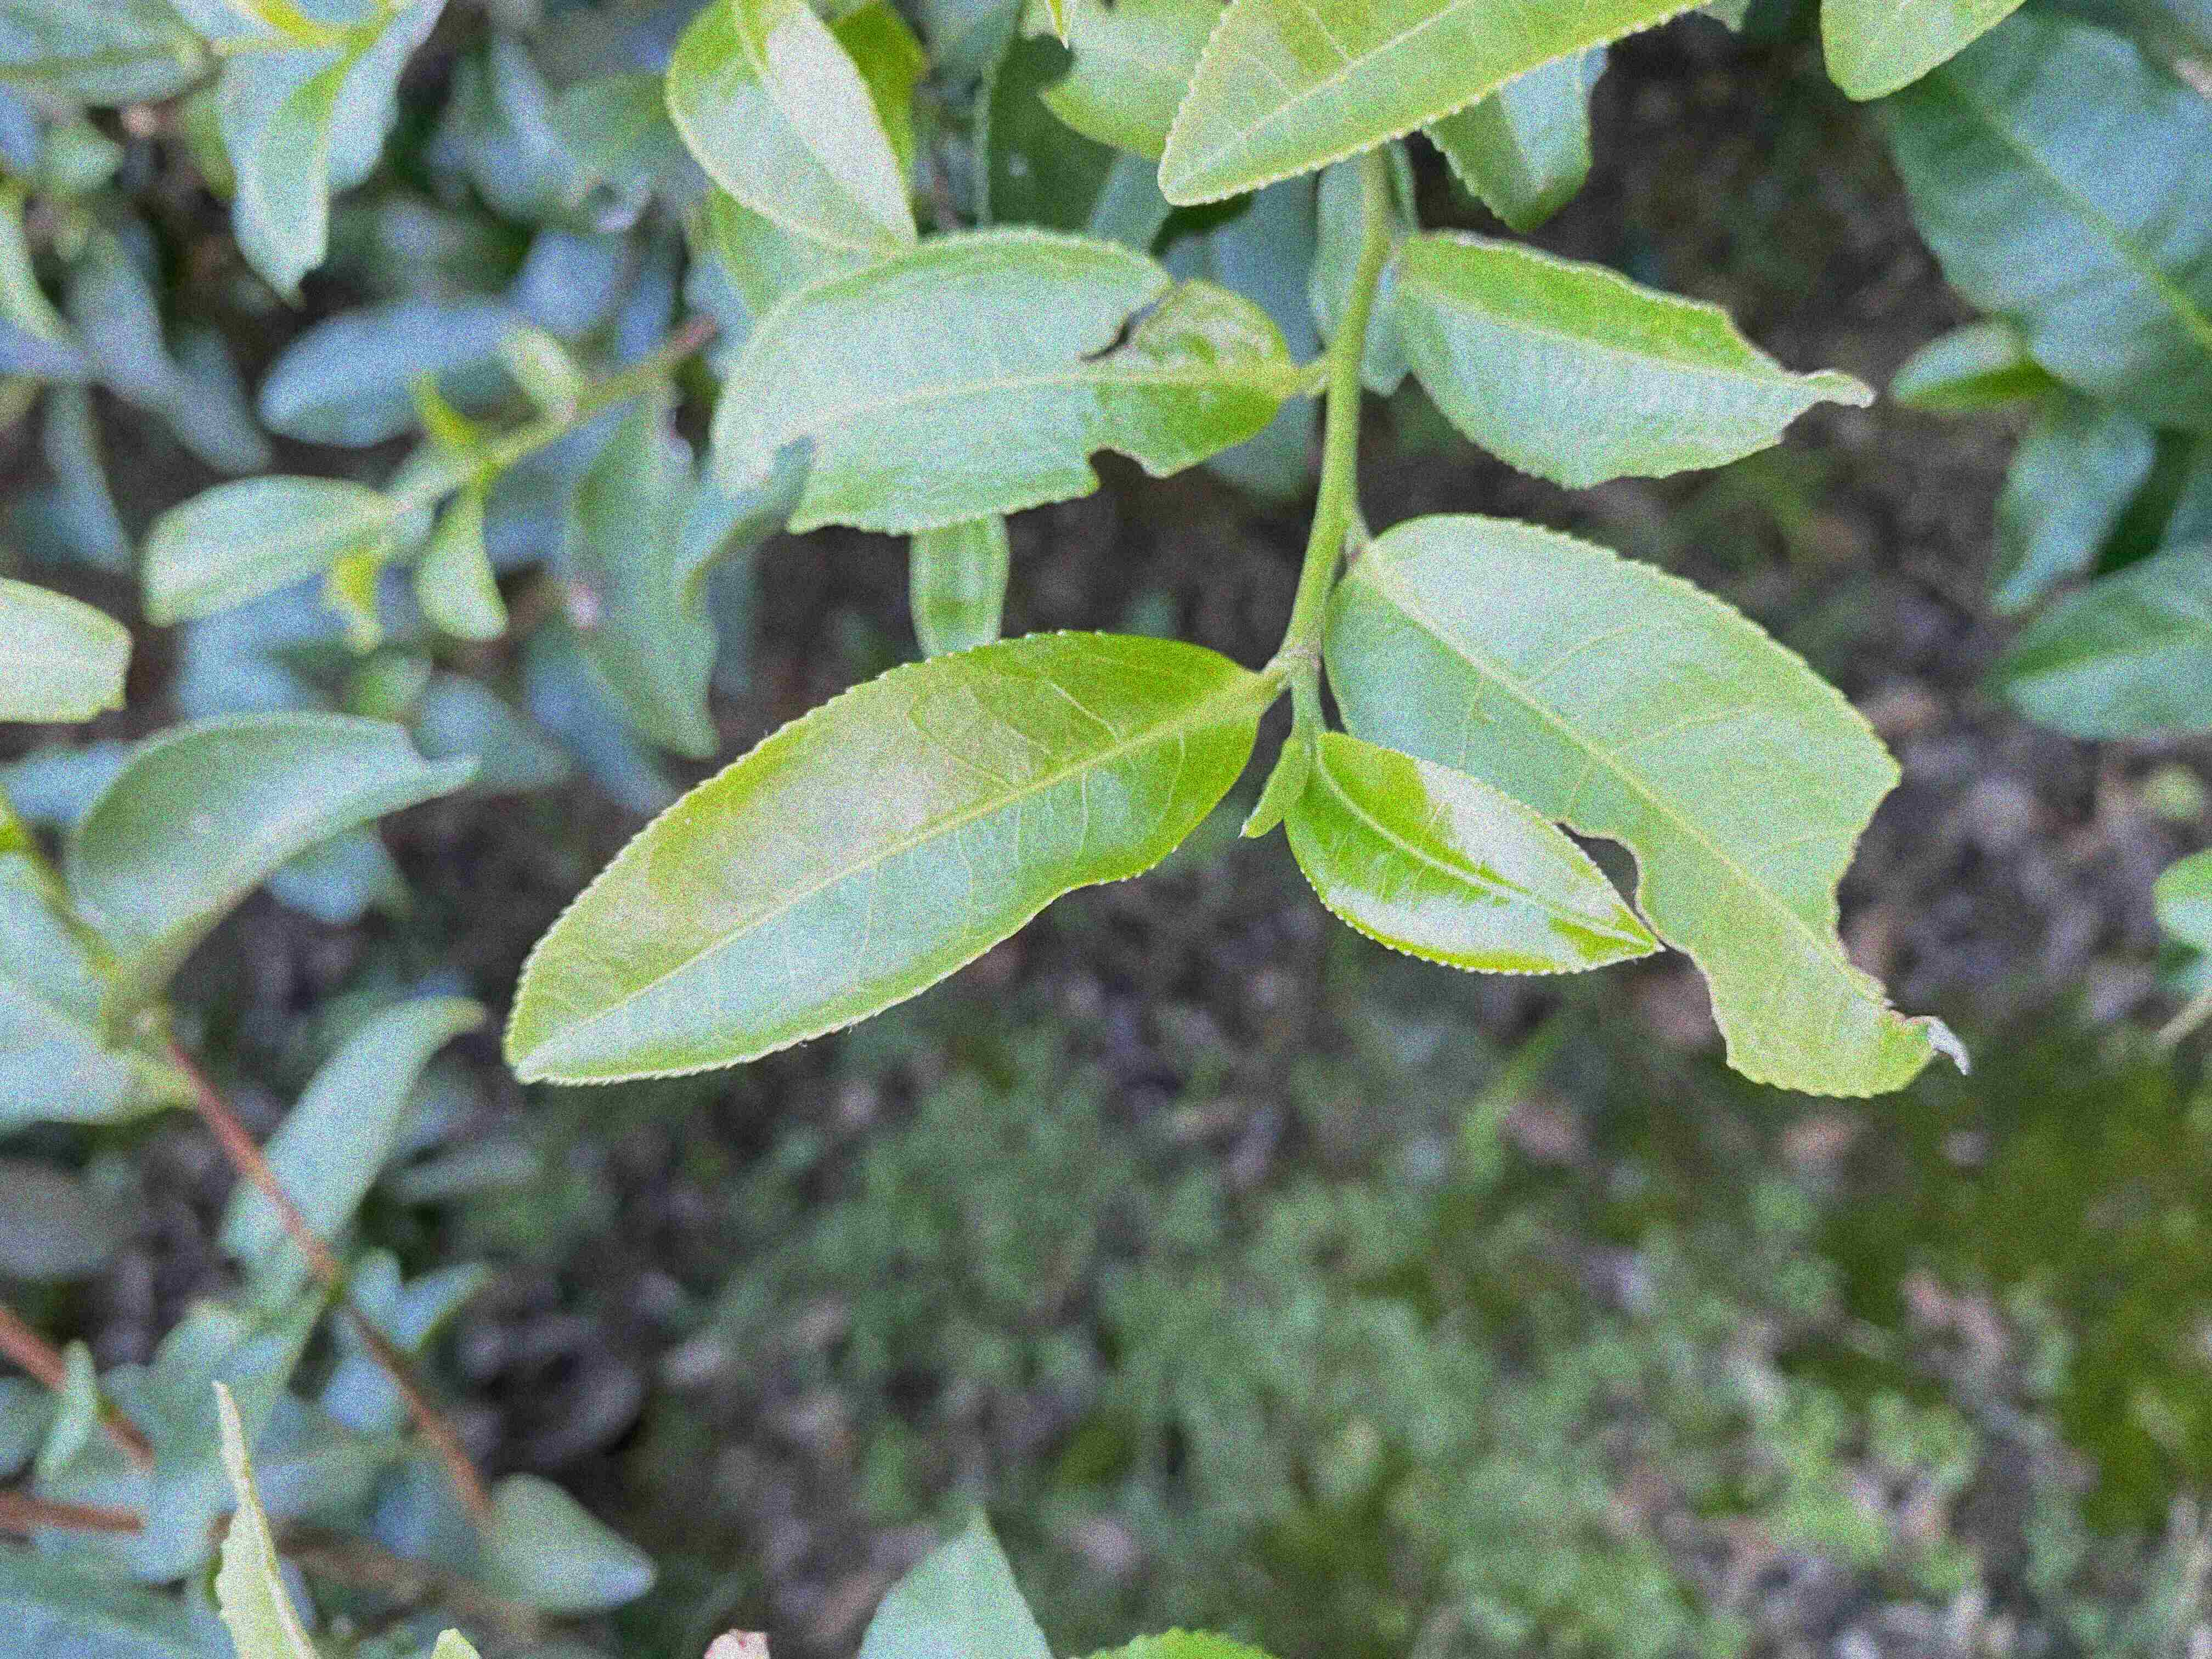chihuo_high: (1324, 509, 1972, 1100), (711, 220, 1296, 538), (1388, 227, 1879, 495)
healthy: (503, 626, 1259, 1091), (1282, 725, 1663, 978), (662, 3, 918, 258)
